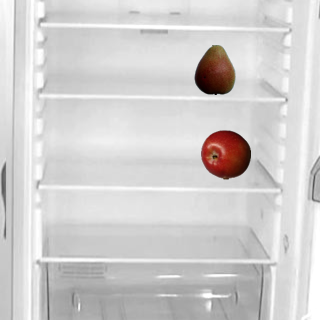Apple Braeburn: (200, 129, 250, 179)
Pear Forelle: (189, 44, 239, 94)
